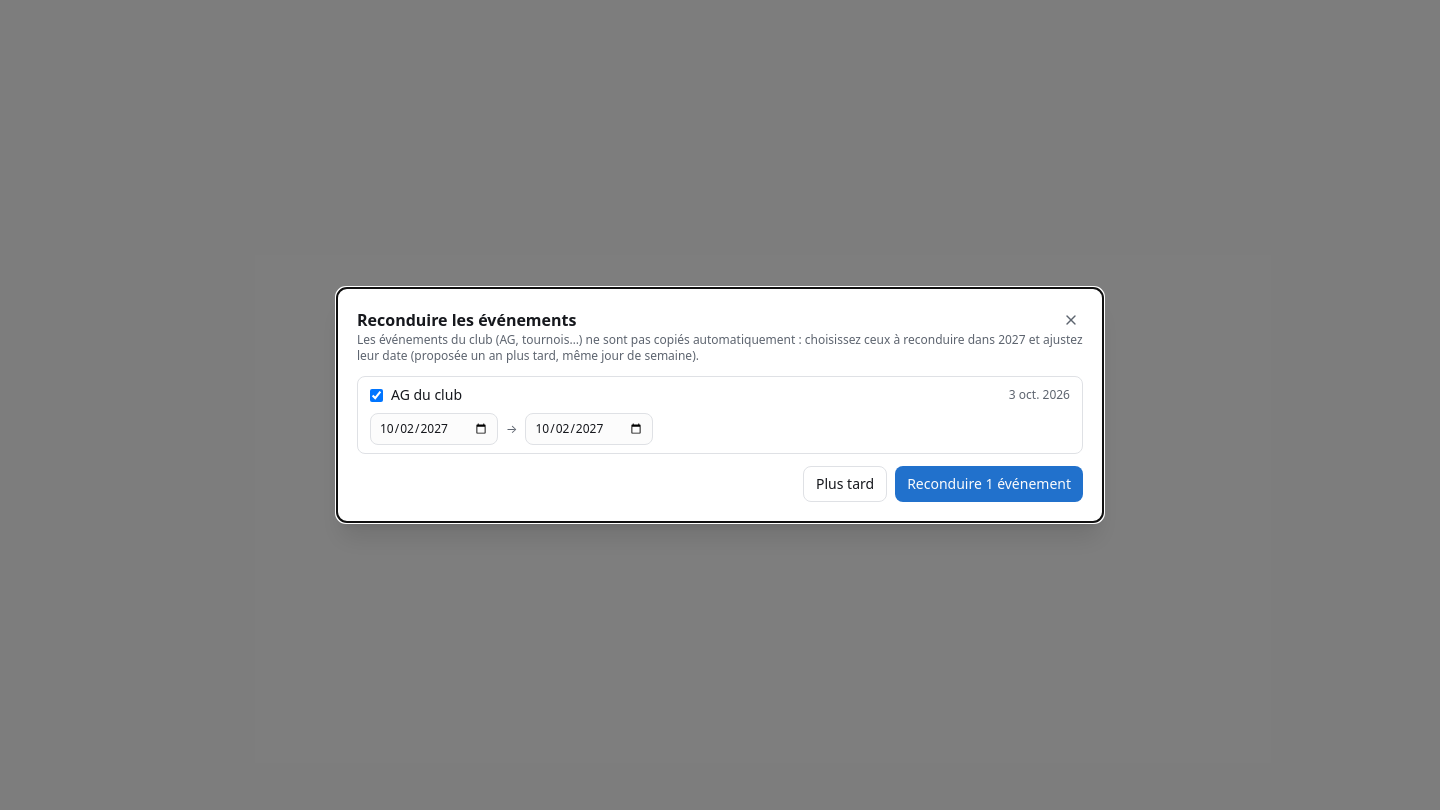
RedateEventsDialog › disables the submit when a kept date is emptied
Expected: the text "AG du club" is shown, [391, 385, 462, 404]
Clear the date field named "Nouvelle date de début de AG du club" at (434, 429), box [370, 413, 498, 445]
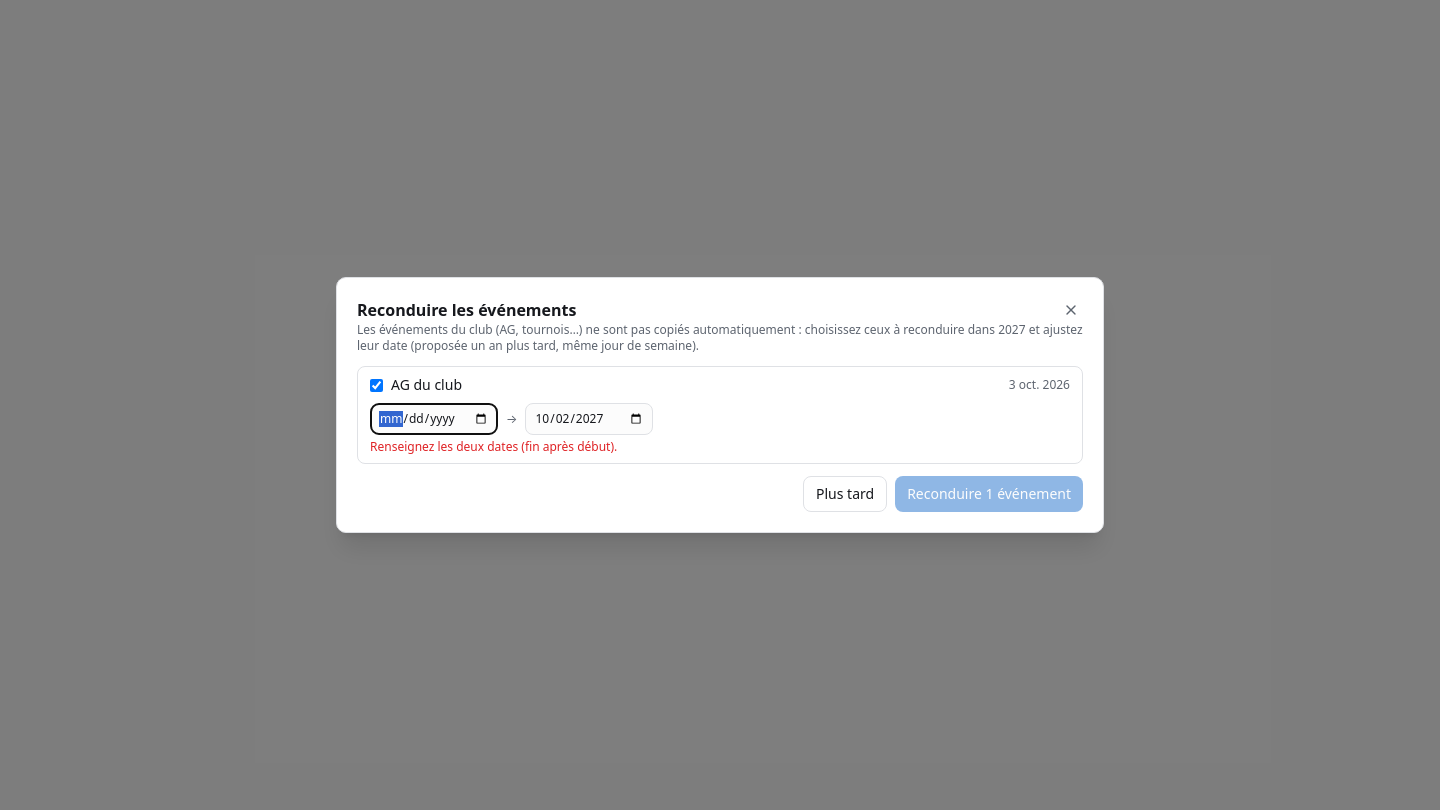
Expected: the text "Renseignez les deux dates (fin après début)." is shown, [370, 438, 617, 455]
Expected: the button "Reconduire 1 événement" is disabled, [895, 476, 1083, 512]
